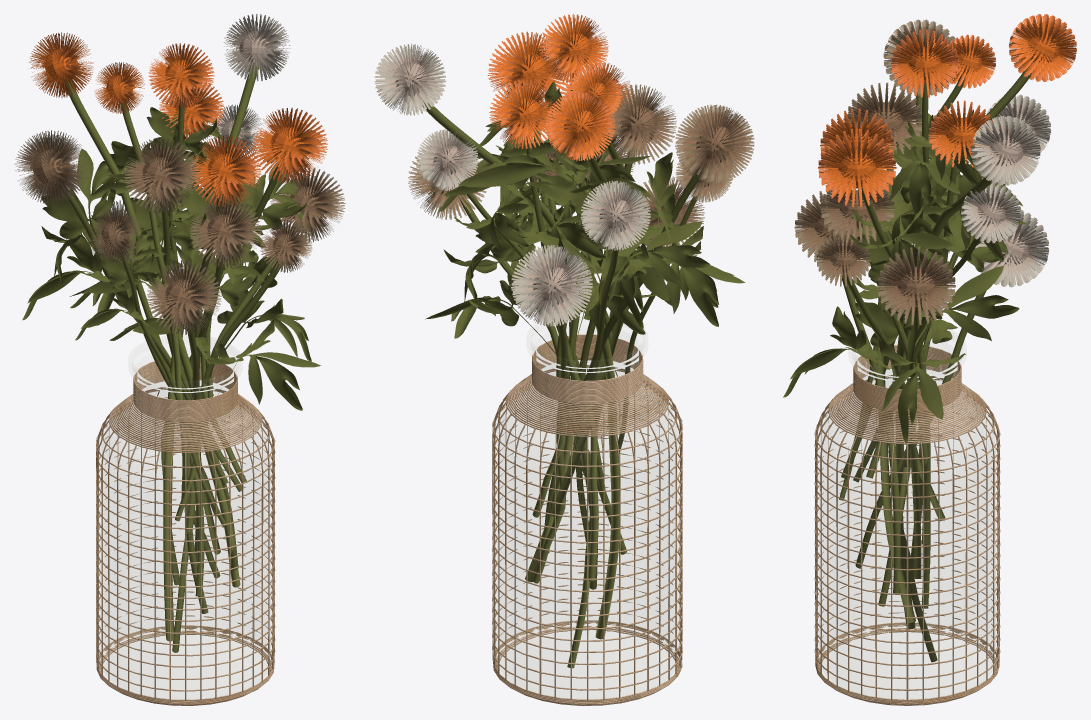
Rendered from MEGA_PACK_decor__decor-roland_pom_pom_chrysanthemum_flower_frame_li.glb.
3 views of the same model, side by side, from view 1: azimuth 30°, elevation 25°; view 2: azimuth 150°, elevation 25°; view 3: azimuth 270°, elevation 25° (orthographic). The views are drawn at different scales.
Parts seen in each view (by area): view 1: decor-roland_pom_pom_chrysanthemum_flower_frame_li; view 2: decor-roland_pom_pom_chrysanthemum_flower_frame_li; view 3: decor-roland_pom_pom_chrysanthemum_flower_frame_li.
Boxes of the visible parts, x1=… form: decor-roland_pom_pom_chrysanthemum_flower_frame_li: x1=14, y1=14, x2=345, y2=705; decor-roland_pom_pom_chrysanthemum_flower_frame_li: x1=374, y1=14, x2=754, y2=705; decor-roland_pom_pom_chrysanthemum_flower_frame_li: x1=783, y1=14, x2=1076, y2=705.
Size of the model in its own units: 0.2701 by 0.5001 by 0.2085.
1 material, 1 textured.
